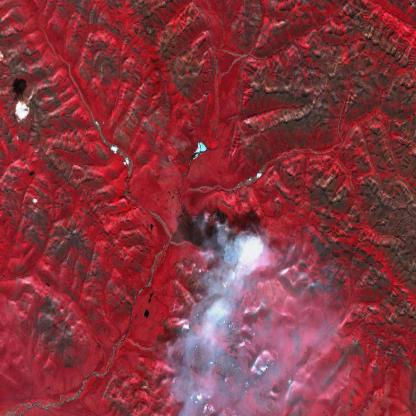fire: (204, 205, 252, 272)
